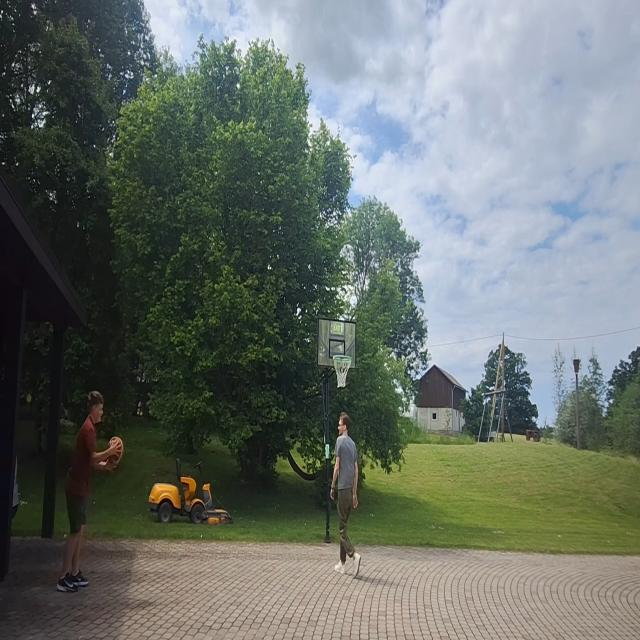ball: (107, 433, 126, 473)
basket: (333, 351, 352, 391)
player: (56, 386, 124, 594), (328, 410, 366, 578)
